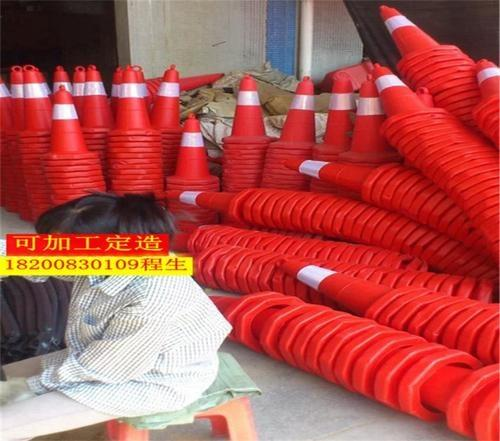cone_barrel: (371, 2, 459, 65), (370, 54, 434, 132), (344, 78, 389, 164), (272, 73, 320, 145), (169, 112, 216, 181), (222, 74, 270, 138), (320, 71, 356, 154), (111, 62, 153, 133), (47, 85, 87, 155), (17, 62, 51, 133), (77, 62, 109, 131), (151, 62, 181, 131)
